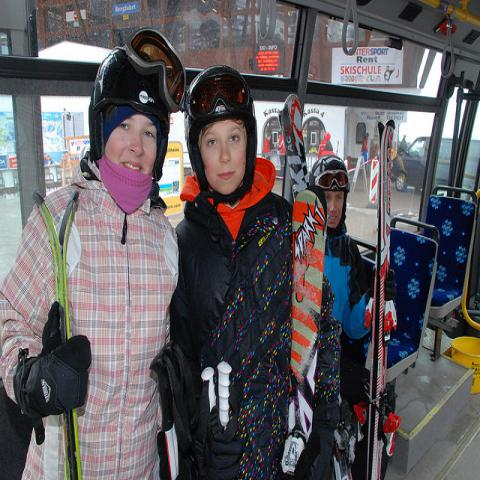truck: (390, 135, 480, 201)
